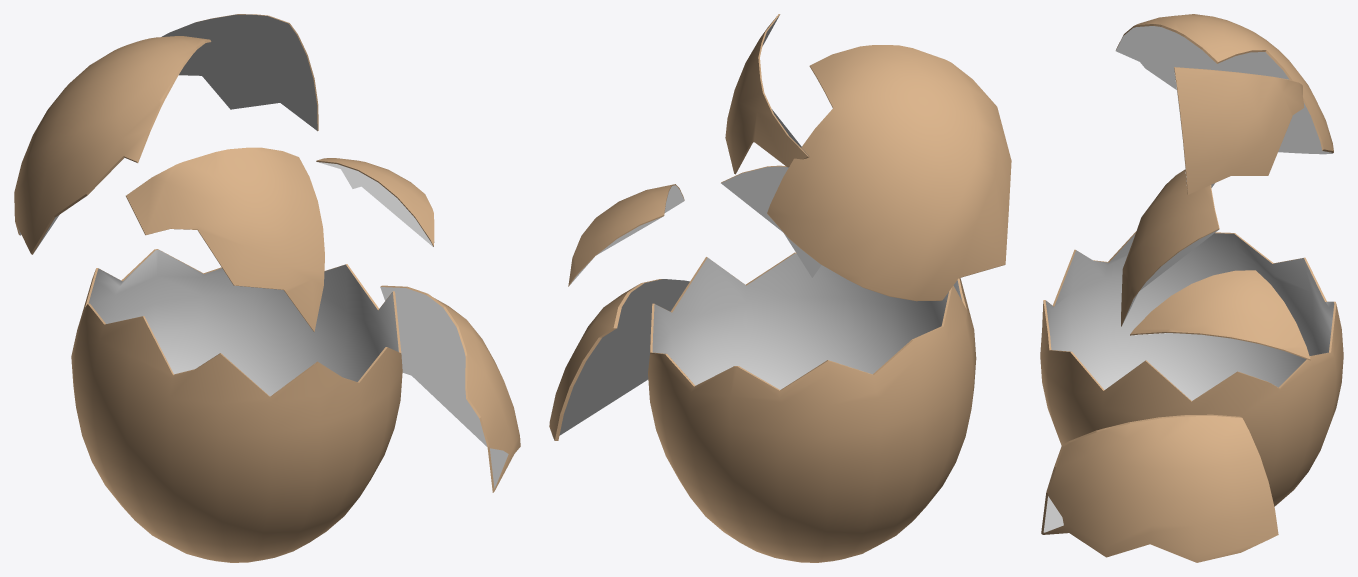
Rendered from cangkang.fbx.
The picture shows the model from 3 angles, left to right: view 1: azimuth 30°, elevation 25°; view 2: azimuth 150°, elevation 25°; view 3: azimuth 270°, elevation 25°; orthographic projection. The views are drawn at different scales.
Visible parts, largest first — view 1: polySurface1, polySurface5, polySurface9, polySurface10, polySurface34, polySurface8, polySurface7; view 2: polySurface1, polySurface10, polySurface5, polySurface34, polySurface8, polySurface7, polySurface9; view 3: polySurface34, polySurface5, polySurface1, polySurface8, polySurface10, polySurface7, polySurface9.
Boxes of the visible parts, box(x1,y1,x2,y2) form: polySurface1: box(71, 249, 402, 562); polySurface5: box(88, 249, 398, 396); polySurface9: box(126, 147, 324, 331); polySurface10: box(14, 36, 211, 254); polySurface34: box(380, 285, 520, 492); polySurface8: box(162, 14, 318, 131); polySurface7: box(316, 158, 434, 246); polySurface1: box(648, 252, 976, 562); polySurface10: box(767, 45, 1011, 301); polySurface5: box(652, 253, 962, 389); polySurface34: box(549, 279, 689, 440); polySurface8: box(725, 14, 809, 174); polySurface7: box(568, 184, 684, 286); polySurface9: box(721, 165, 821, 277); polySurface34: box(1041, 414, 1278, 562); polySurface5: box(1045, 233, 1334, 400); polySurface1: box(1040, 231, 1343, 506); polySurface8: box(1174, 67, 1304, 194); polySurface10: box(1115, 14, 1333, 154); polySurface7: box(1130, 270, 1310, 360); polySurface9: box(1121, 169, 1219, 326).
Size of the model in its own units: 7.87 by 8.72 by 5.02.
